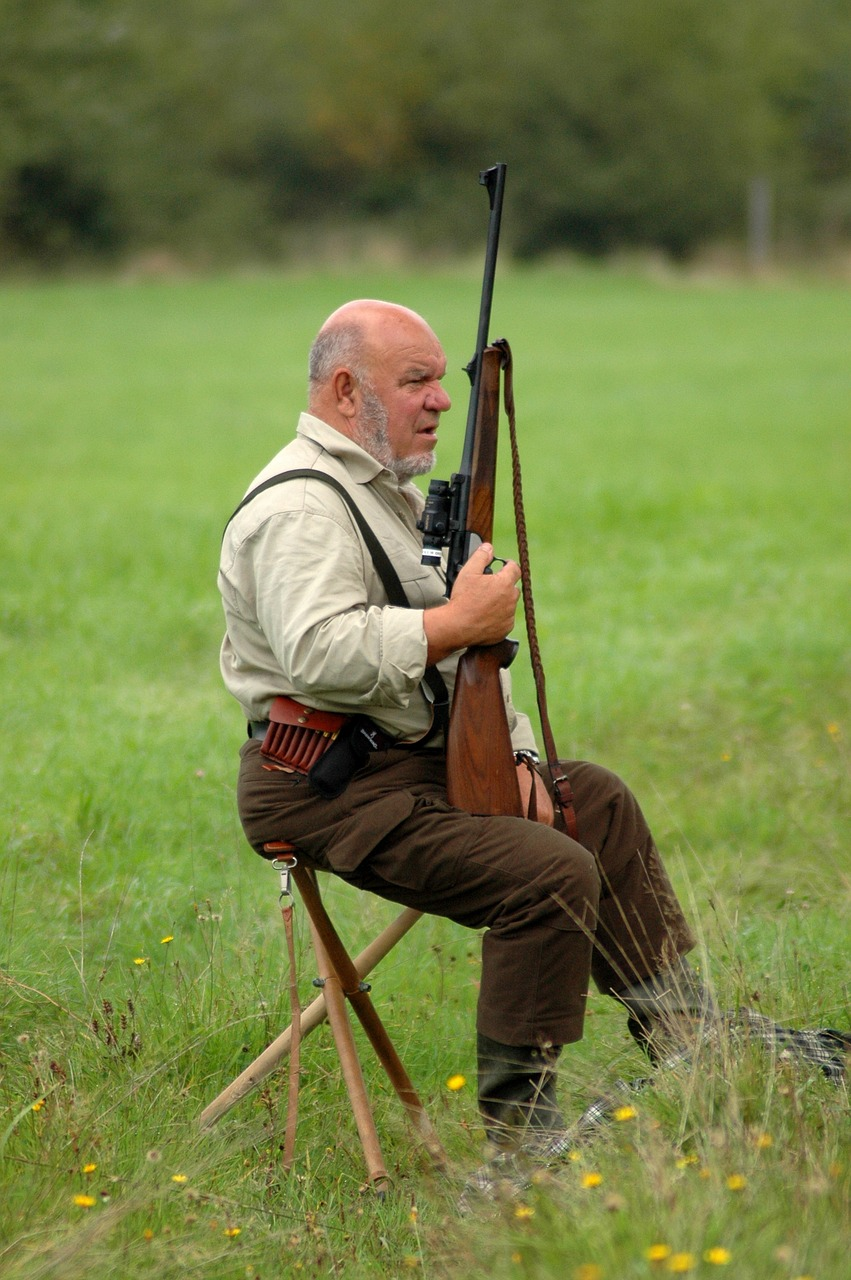gun: (411, 152, 532, 822)
